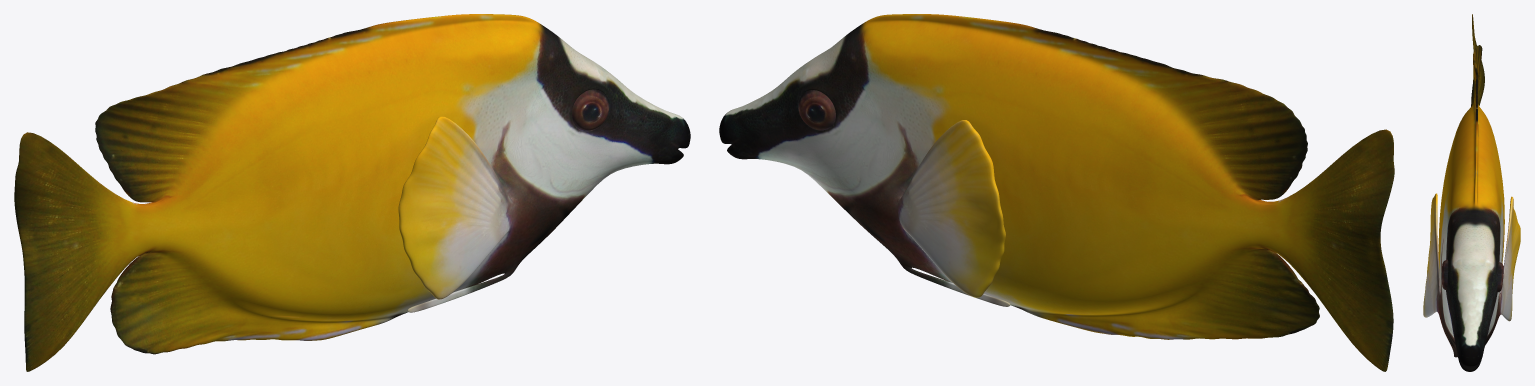
File: bicolorFoxfaceFishModel.glb
3 views of the same model, side by side, from view 1: azimuth 30°, elevation 25°; view 2: azimuth 150°, elevation 25°; view 3: azimuth 270°, elevation 25° (orthographic). The views are drawn at different scales.
Parts seen in each view (by area): view 1: 13010_Foxface_Lo_v1_l3; view 2: 13010_Foxface_Lo_v1_l3; view 3: 13010_Foxface_Lo_v1_l3.
Part boxes in pixels (bbox=[...]): 13010_Foxface_Lo_v1_l3: bbox=[14, 14, 690, 371]; 13010_Foxface_Lo_v1_l3: bbox=[719, 14, 1394, 371]; 13010_Foxface_Lo_v1_l3: bbox=[1423, 14, 1520, 371].
Size of the model in its own units: 10.18 by 4.28 by 1.8.
1 material, 1 textured.
